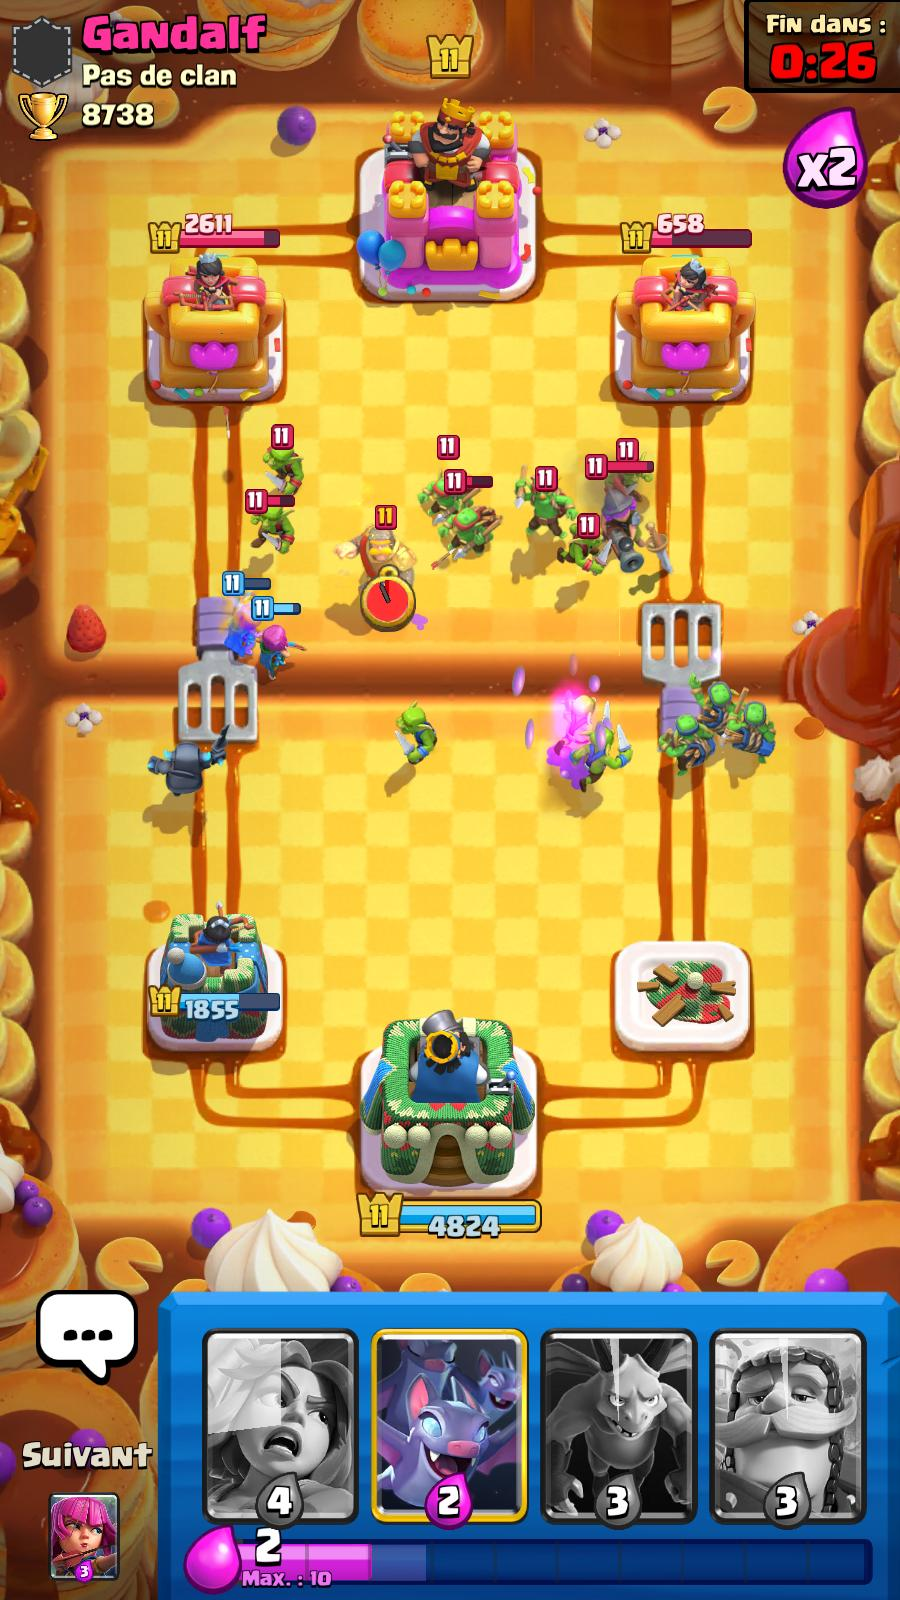archere: (214, 578, 268, 667), (253, 618, 303, 693)
chevalier: (346, 509, 433, 633)
gobelin: (390, 695, 456, 786), (247, 425, 314, 509), (577, 713, 625, 802), (233, 488, 297, 554), (598, 438, 653, 509), (554, 693, 620, 751), (566, 522, 616, 593)
gobelin_lances: (407, 451, 493, 518), (686, 668, 757, 748), (509, 454, 573, 538), (649, 718, 723, 782), (433, 500, 497, 565), (732, 701, 786, 765)
mini_PEKKA: (140, 723, 244, 810)
